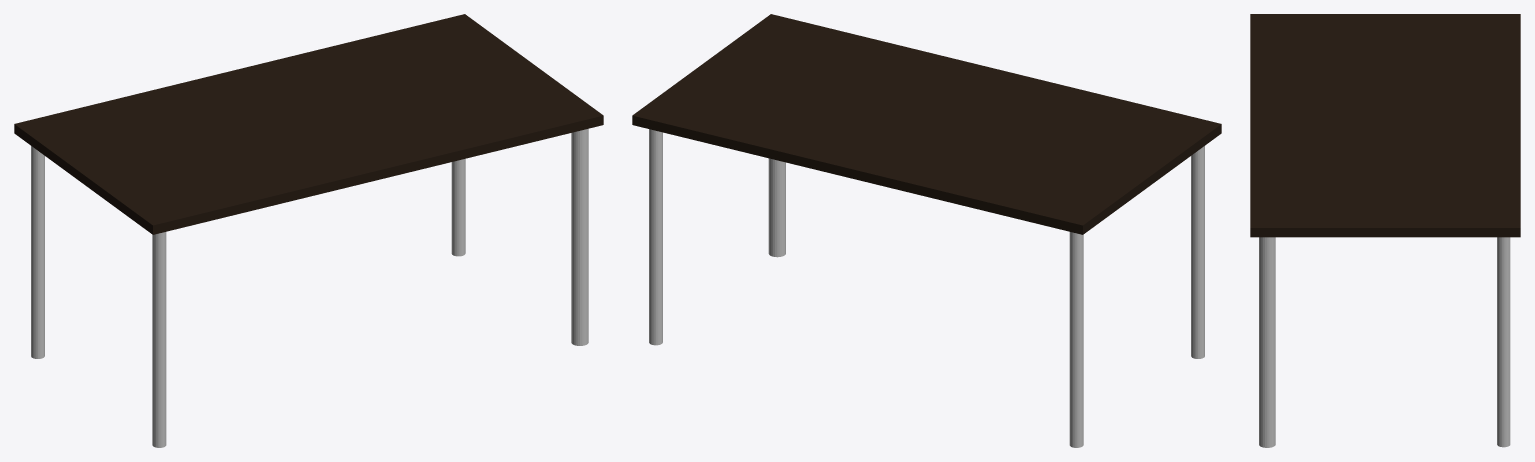
File: Stol.dae
The picture shows the model from 3 angles, left to right: view 1: azimuth 30°, elevation 25°; view 2: azimuth 150°, elevation 25°; view 3: azimuth 270°, elevation 25°; orthographic projection. The views are drawn at different scales.
Visible parts, largest first — view 1: Stół; view 2: Stół; view 3: Stół.
Part boxes in pixels (box(x1,y1,x2,y2)): Stół: box(14, 14, 603, 447); Stół: box(632, 14, 1221, 447); Stół: box(1250, 14, 1520, 447).
Size of the model in its own units: 1.5 by 0.8 by 0.73.
